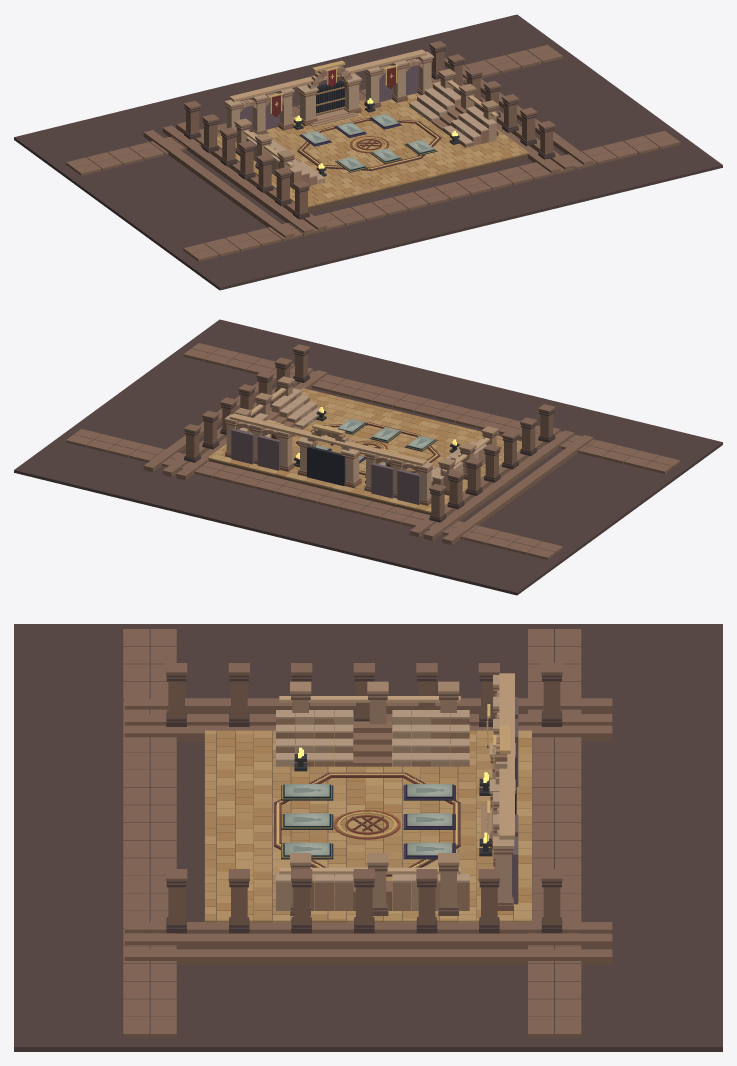
Rendered from duel-arena.glb.
3 views of the same model, one above another, from view 1: azimuth 30°, elevation 25°; view 2: azimuth 150°, elevation 25°; view 3: azimuth 270°, elevation 25° (orthographic). The views are drawn at different scales.
Parts seen in each view (by area): view 1: Outer_Bedrock, Outer_Promenade, Paving, Outer_Piers, Stands, Grandstand, Champion_Gate, Ring_Mosaic, Bedrock, Gate_Grille, Crimson_Standards; view 2: Outer_Bedrock, Outer_Promenade, Paving, Outer_Piers, Grandstand, Stands, Champion_Gate, Gate_Grille, Bedrock, Ring_Mosaic; view 3: Outer_Bedrock, Outer_Promenade, Paving, Stands, Outer_Piers, Grandstand, Ring_Mosaic, Bedrock, Stairs, Champion_Gate.
Part boxes in pixels (x1=…): Outer_Bedrock: x1=14, y1=14, x2=722, y2=290; Outer_Promenade: x1=66, y1=45, x2=680, y2=261; Paving: x1=217, y1=83, x2=528, y2=207; Outer_Piers: x1=183, y1=41, x2=555, y2=219; Stands: x1=234, y1=68, x2=498, y2=189; Grandstand: x1=224, y1=49, x2=433, y2=142; Champion_Gate: x1=297, y1=60, x2=361, y2=126; Ring_Mosaic: x1=297, y1=118, x2=441, y2=170; Bedrock: x1=308, y1=154, x2=527, y2=211; Gate_Grille: x1=316, y1=80, x2=345, y2=115; Crimson_Standards: x1=268, y1=64, x2=398, y2=116; Outer_Bedrock: x1=14, y1=319, x2=722, y2=595; Outer_Promenade: x1=66, y1=343, x2=680, y2=559; Paving: x1=208, y1=388, x2=521, y2=512; Outer_Piers: x1=183, y1=344, x2=555, y2=522; Grandstand: x1=224, y1=413, x2=433, y2=505; Stands: x1=234, y1=376, x2=498, y2=495; Champion_Gate: x1=297, y1=423, x2=361, y2=488; Gate_Grille: x1=307, y1=446, x2=345, y2=485; Bedrock: x1=209, y1=459, x2=431, y2=514; Ring_Mosaic: x1=296, y1=422, x2=440, y2=475; Outer_Bedrock: x1=14, y1=624, x2=722, y2=1051; Outer_Promenade: x1=123, y1=629, x2=612, y2=1037; Paving: x1=205, y1=730, x2=531, y2=922; Stands: x1=276, y1=681, x2=469, y2=915; Outer_Piers: x1=166, y1=663, x2=562, y2=933; Grandstand: x1=493, y1=673, x2=518, y2=910; Ring_Mosaic: x1=274, y1=772, x2=460, y2=876; Bedrock: x1=204, y1=733, x2=532, y2=921; Stairs: x1=353, y1=721, x2=391, y2=910; Champion_Gate: x1=489, y1=725, x2=515, y2=849.
Size of the model in its own units: 48 by 5.42 by 34.
Materials: 22 (1 with a texture image).
